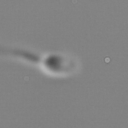normal: (1, 37, 43, 67)
